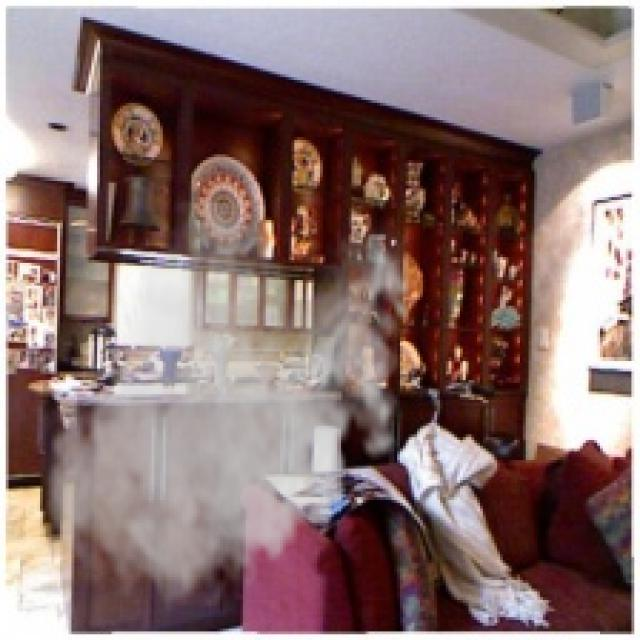smoke: (37, 197, 423, 617)
